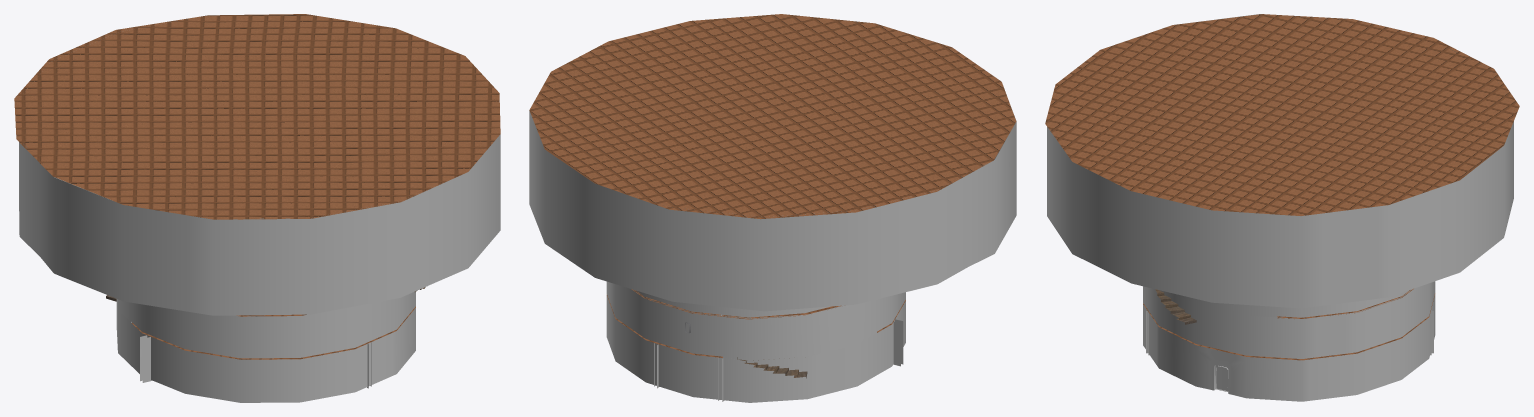
File: Zamok.fbx
3 views of the same model, side by side, from view 1: azimuth 30°, elevation 25°; view 2: azimuth 150°, elevation 25°; view 3: azimuth 270°, elevation 25° (orthographic). The views are drawn at different scales.
Parts seen in each view (by area): view 1: Potolok, etash4, etash1, etash2, Cube, Potolok2; view 2: Potolok, etash4, etash1, etash2, etash3, Cube, Circle.012; view 3: Potolok, etash4, etash1, etash2, etash3, Potolok2, Circle.020.
Part boxes in pixels (x1,y1,x2,y2): Potolok: [14, 14, 500, 219]; etash4: [19, 57, 500, 315]; etash1: [116, 299, 415, 402]; etash2: [117, 292, 415, 358]; Cube: [140, 335, 371, 388]; Potolok2: [132, 306, 415, 359]; Potolok: [529, 14, 1016, 219]; etash4: [529, 22, 1016, 311]; etash1: [606, 295, 905, 402]; etash2: [606, 281, 905, 360]; etash3: [636, 290, 829, 317]; Cube: [654, 319, 903, 401]; Circle.012: [631, 289, 841, 319]; Potolok: [1045, 14, 1519, 215]; etash4: [1047, 14, 1513, 308]; etash1: [1143, 294, 1435, 401]; etash2: [1143, 281, 1435, 358]; etash3: [1177, 290, 1409, 317]; Potolok2: [1143, 293, 1435, 360]; Circle.020: [1155, 289, 1196, 324].
Size of the model in its own units: 2803 by 1434 by 2781.
